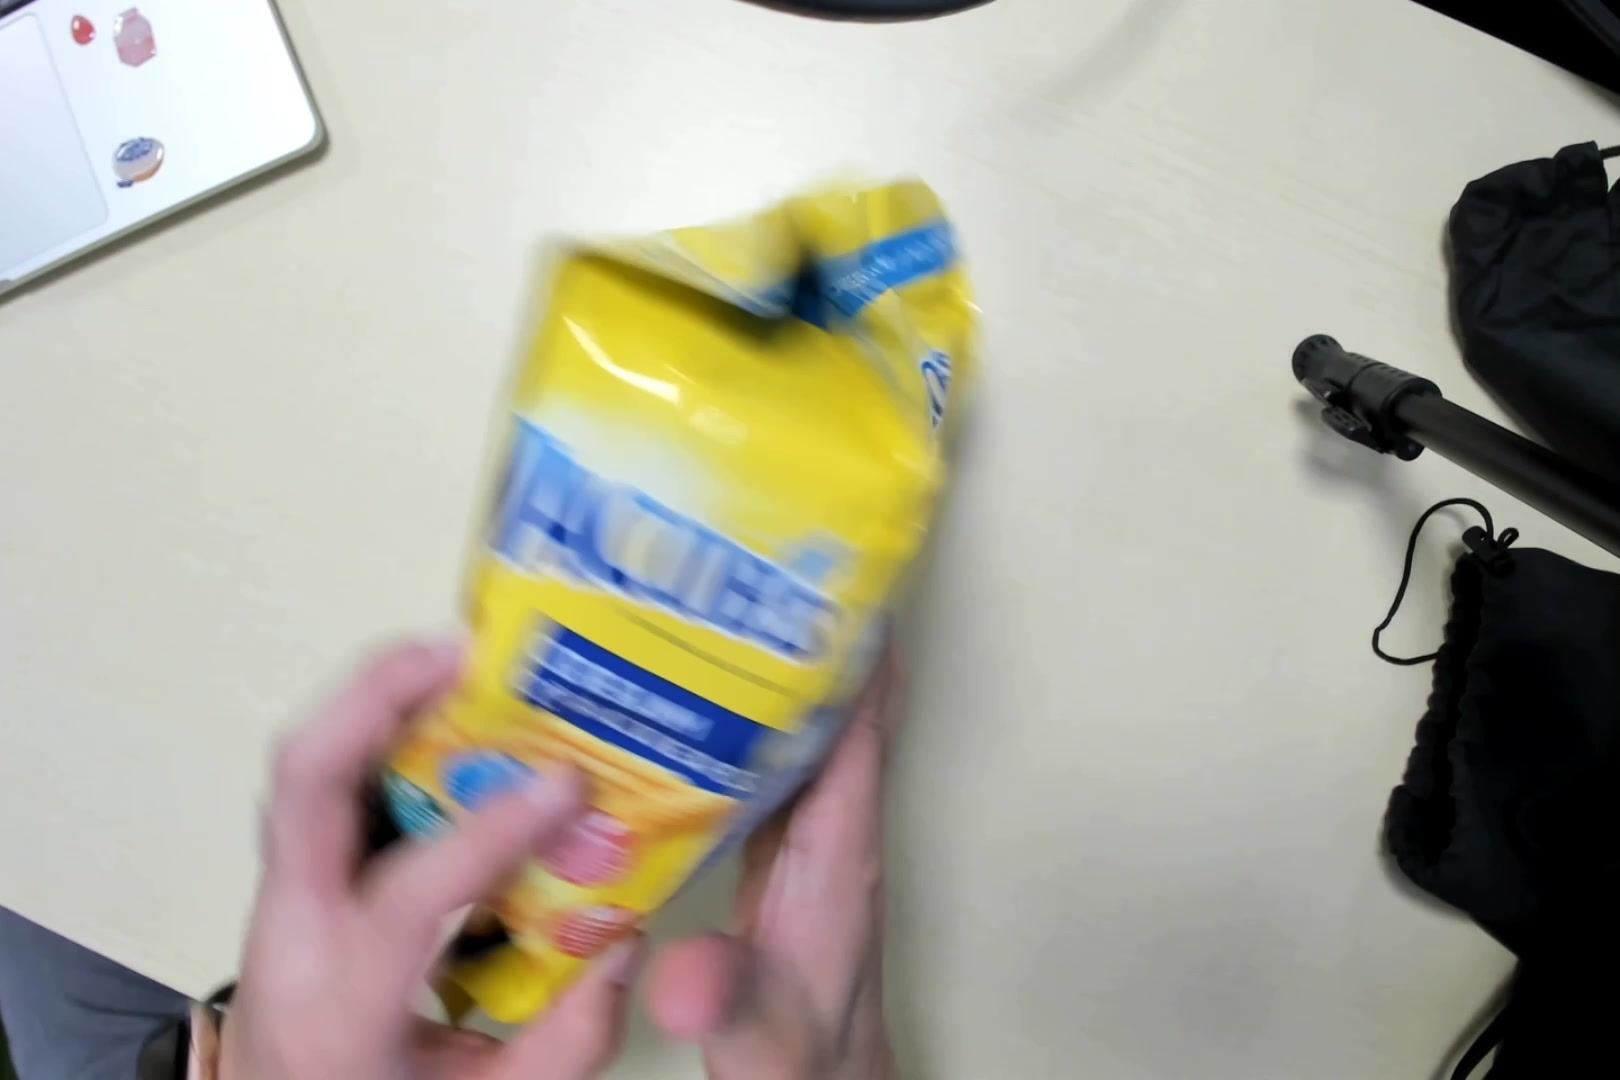BiscuitCrackersCookies_500-599g_Halal_NonHealthy: (383, 193, 979, 999)
